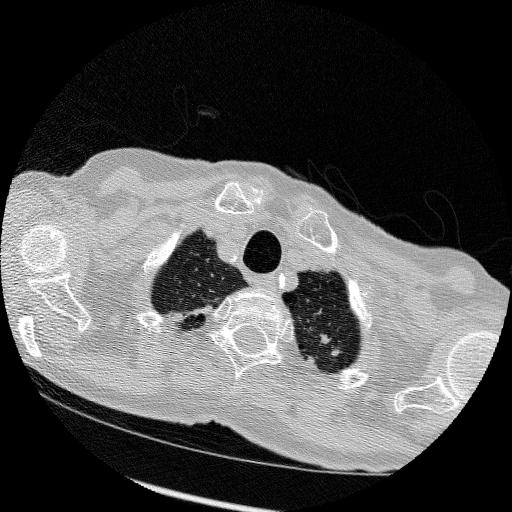nodule: (317, 332, 331, 346)
